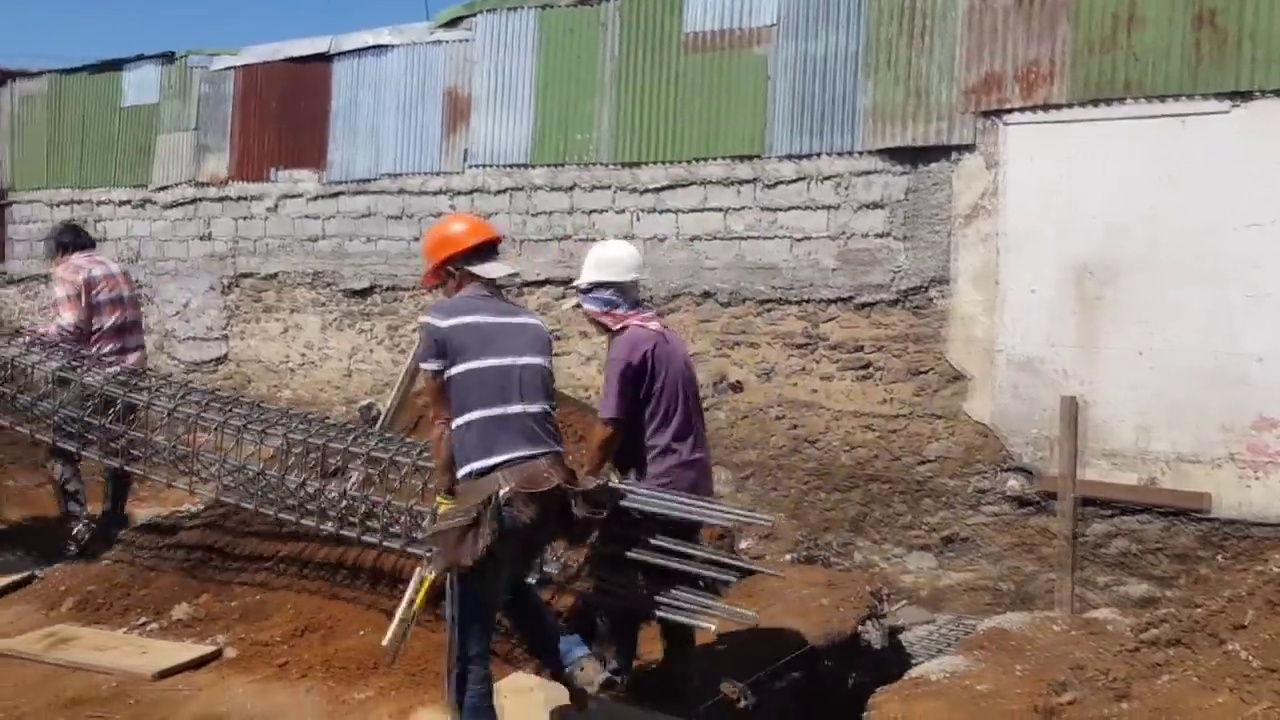helmet: (415, 209, 502, 286), (566, 237, 649, 286)
helmet-off: (43, 220, 99, 263)
helmet-on: (565, 231, 651, 334), (414, 206, 504, 299)
person: (415, 206, 620, 719), (565, 232, 703, 681), (27, 218, 146, 562)
